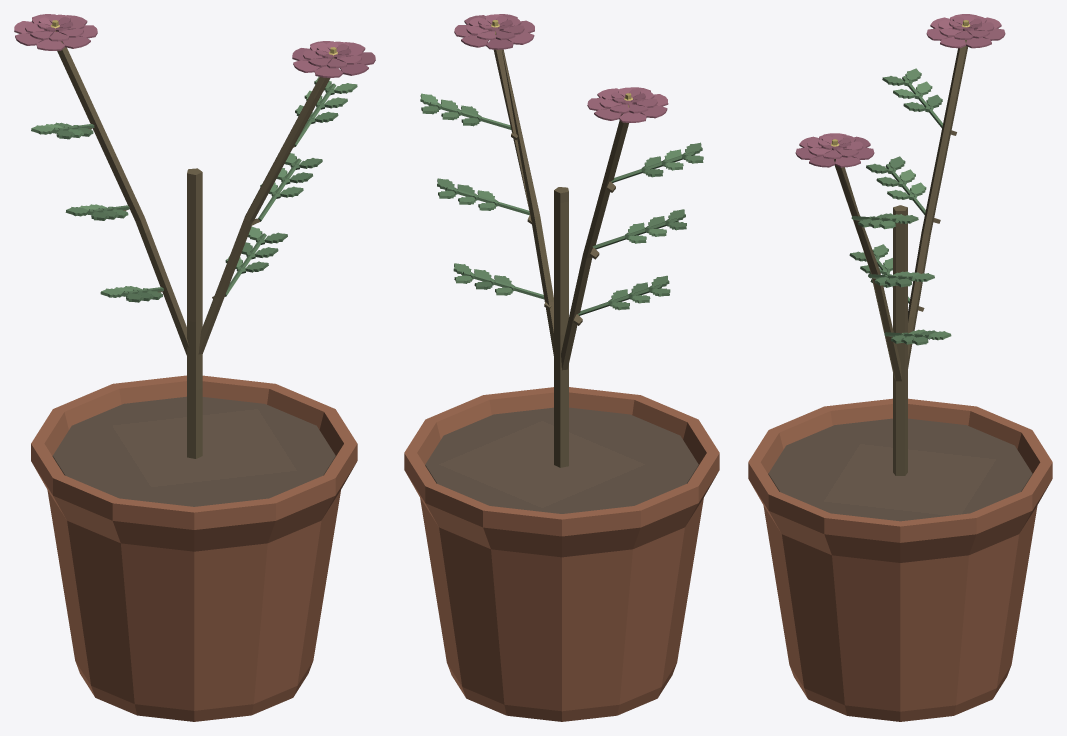
Rendered from rose.glb.
3 views of the same model, side by side, from view 1: azimuth 30°, elevation 25°; view 2: azimuth 150°, elevation 25°; view 3: azimuth 270°, elevation 25° (orthographic). The views are drawn at different scales.
Parts seen in each view (by area): view 1: rose/review-terra-vessel, rose/review-rooted-soil, rose/petiole-001, rose/stem-068, rose/stem-002; view 2: rose/review-terra-vessel, rose/review-rooted-soil, rose/petiole-001, rose/stem-002, rose/stem-068; view 3: rose/review-terra-vessel, rose/review-rooted-soil, rose/petiole-001, rose/stem-068, rose/stem-002.
Boxes of the visible parts, x1,y1,x2,y2 form: rose/review-terra-vessel: [31, 375, 357, 721]; rose/review-rooted-soil: [52, 396, 335, 506]; rose/petiole-001: [187, 168, 202, 458]; rose/stem-068: [57, 41, 189, 355]; rose/stem-002: [198, 77, 330, 354]; rose/review-terra-vessel: [404, 387, 719, 721]; rose/review-rooted-soil: [425, 407, 698, 513]; rose/petiole-001: [554, 187, 568, 467]; rose/stem-002: [493, 34, 553, 355]; rose/stem-068: [561, 113, 628, 370]; rose/review-terra-vessel: [748, 398, 1052, 721]; rose/review-rooted-soil: [768, 418, 1032, 521]; rose/petiole-001: [893, 205, 907, 475]; rose/stem-068: [908, 40, 967, 368]; rose/stem-002: [834, 159, 901, 381].
Size of the model in its own units: 0.2956 by 0.595 by 0.27.
6 materials, 6 textured.
